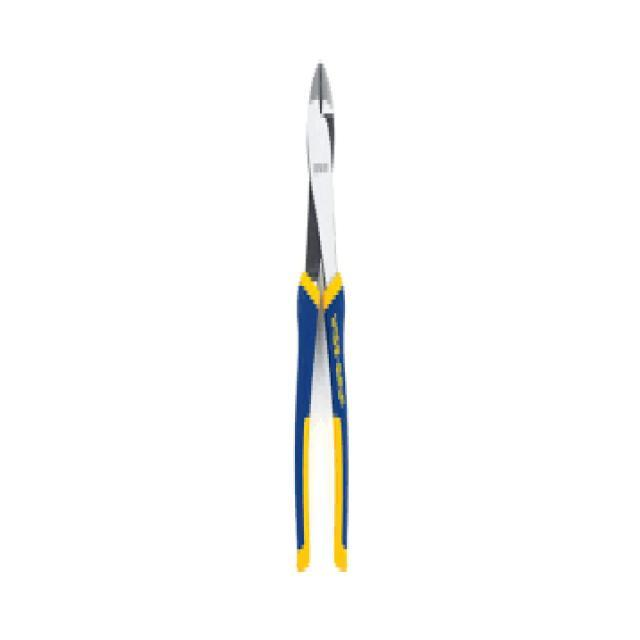pliers: (282, 50, 360, 585)
